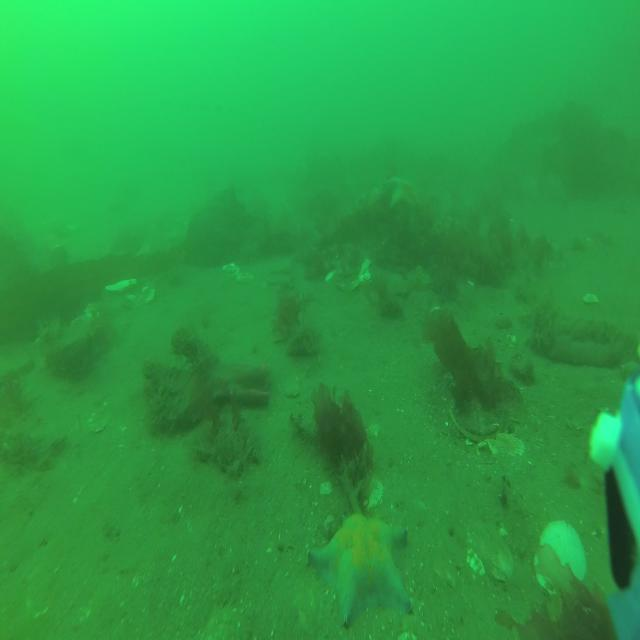starfish: (305, 509, 415, 631)
